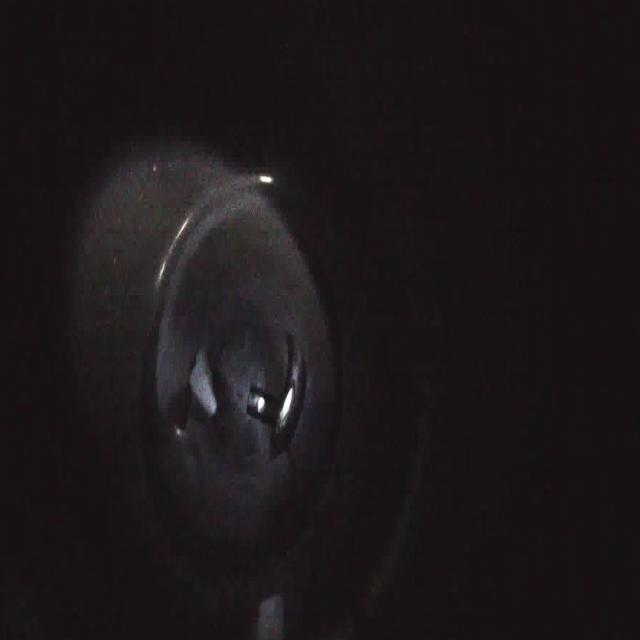impurity: (183, 342, 226, 416)
